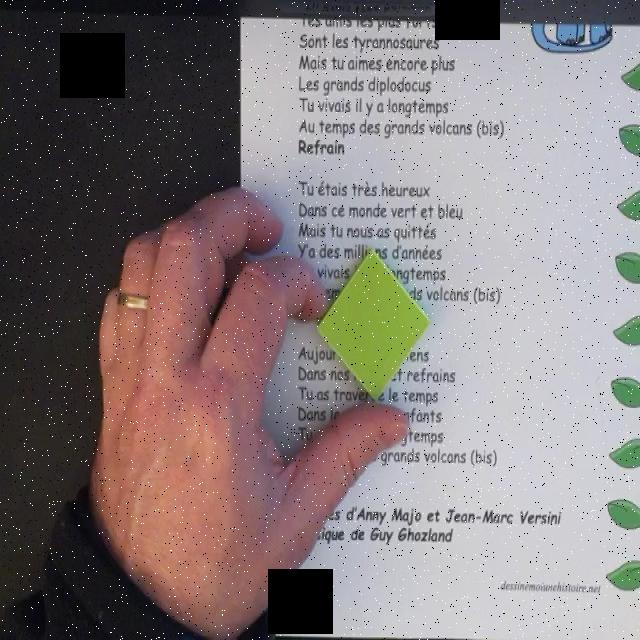square: (316, 248, 432, 402)
